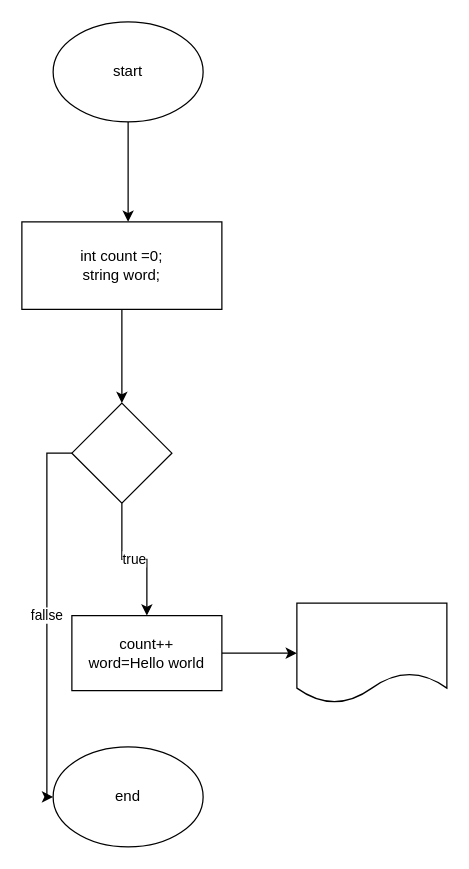
This 469x869 diagram has some shape labels left out. Each missing label, with the centre of its shape:
count<=10: the point at 121,452
print(word): the point at 371,652
